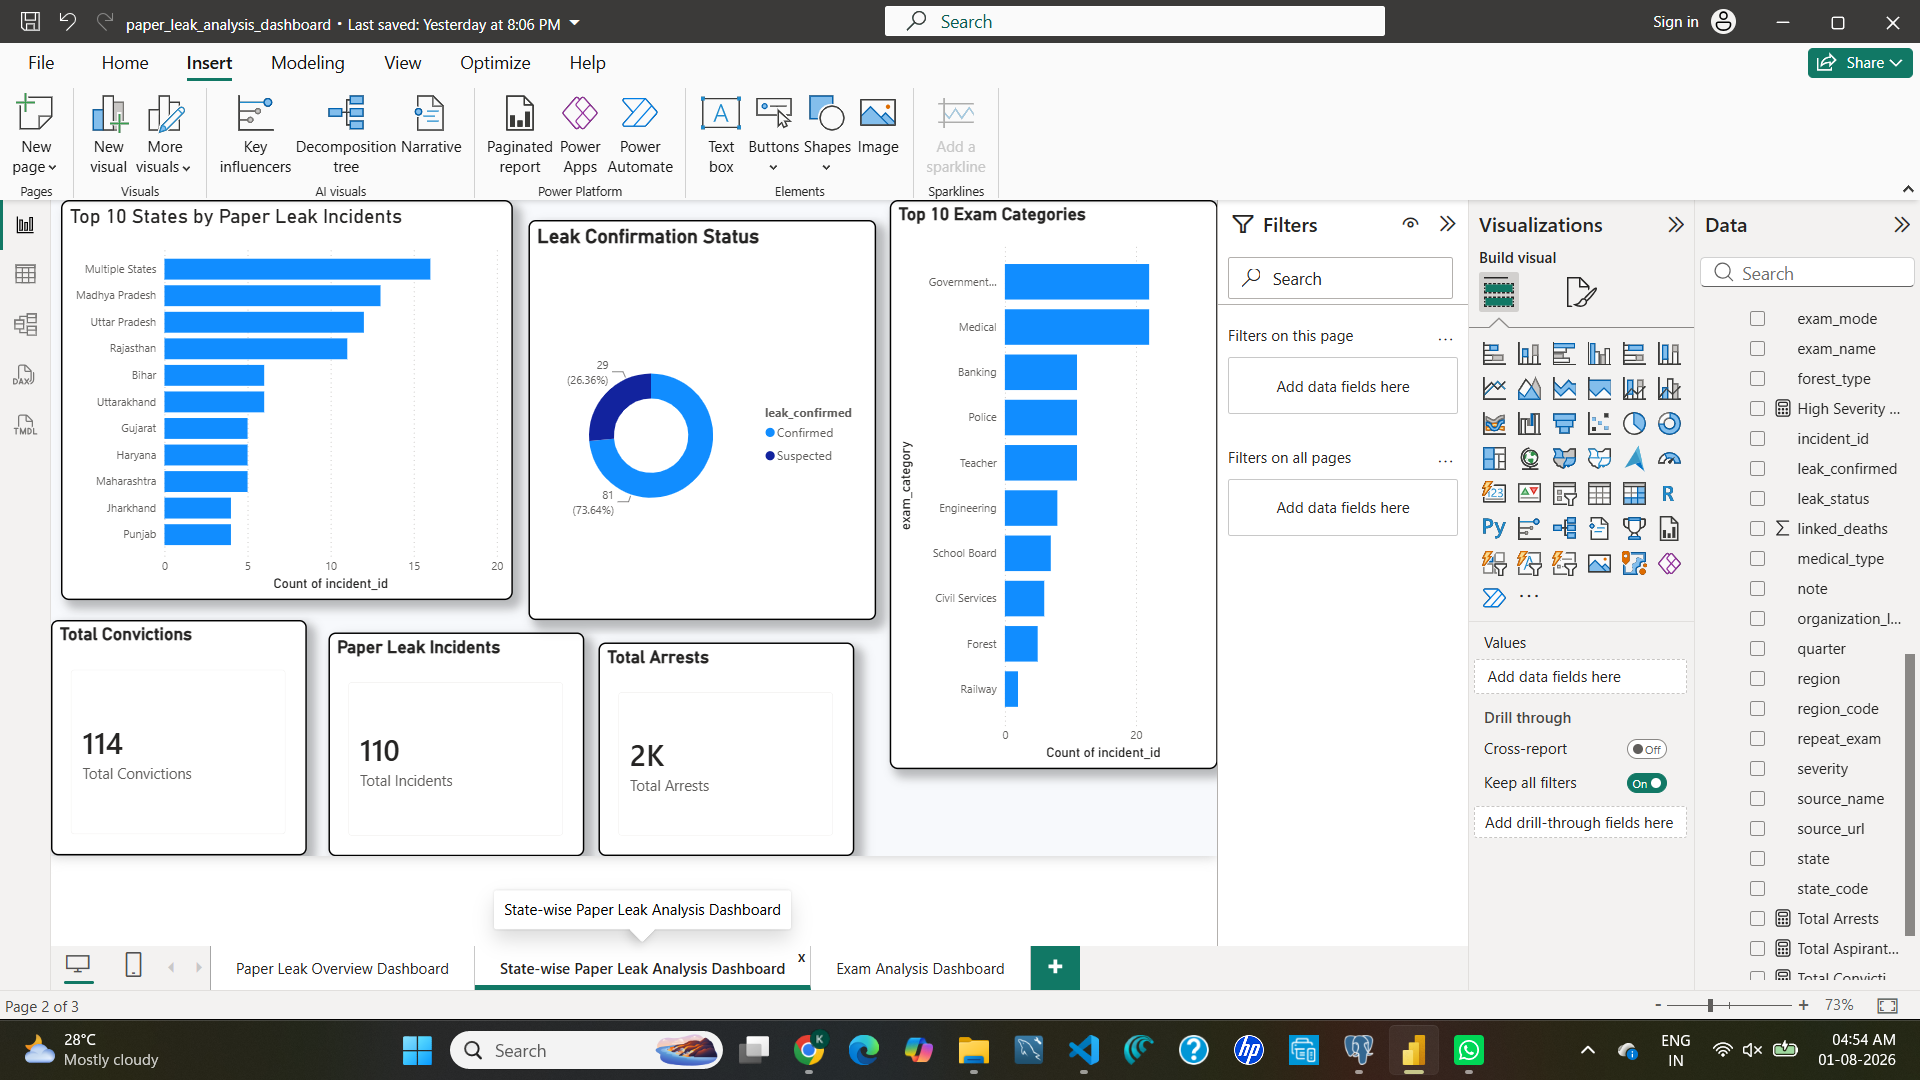

This screenshot's page, from the dashboard's own definition file:
{"tool":"powerbi","page":{"name":"State-wise Paper Leak Analysis Dashboard","canvas":[1280,720],"ordinal":1},"visuals":[{"type":"cardVisual","title":"Paper Leak Incidents","fields":{"Data":["paper_leaks_cleaned.Total Incidents"]},"box":[304.6,474.8,280.6,245.8],"z":0},{"type":"cardVisual","title":"Total Arrests","fields":{"Data":["paper_leaks_cleaned.Total Arrests"]},"box":[601,485.8,280.6,234.7],"z":1000},{"type":"cardVisual","title":"Total Convictions","fields":{"Data":["paper_leaks_cleaned.Total Convictions"]},"box":[0,461.1,280.6,258.3],"z":2000},{"type":"clusteredBarChart","title":"Top 10 States by Paper Leak Incidents","fields":{"Category":["paper_leaks_cleaned.state"],"Y":["CountNonNull(paper_leaks_cleaned.incident_id)"]},"box":[11.1,0,495.8,438.9],"z":3000},{"type":"donutChart","title":"Leak Confirmation Status","fields":{"Category":["paper_leaks_cleaned.leak_confirmed"],"Y":["CountNonNull(paper_leaks_cleaned.incident_id)"]},"box":[524.2,22,381.9,438.9],"z":4000},{"type":"clusteredBarChart","title":"Top 10 Exam Categories","fields":{"Category":["paper_leaks_cleaned.exam_category"],"Y":["CountNonNull(paper_leaks_cleaned.incident_id)"]},"box":[920.8,0,359.7,625],"z":5000}]}

Visuals, with their boxes on the page's 1280x720 design canvas (x1, y1, x2, y2). These are canvas units, not pixel positions in the 1920x1080 screenshot, which may show the page scaled, cropped or inside an application window:
"Paper Leak Incidents" cardVisual: locate(305, 475, 585, 721)
"Total Arrests" cardVisual: locate(601, 486, 882, 720)
"Total Convictions" cardVisual: locate(0, 461, 281, 719)
"Top 10 States by Paper Leak Incidents" clusteredBarChart: locate(11, 0, 507, 439)
"Leak Confirmation Status" donutChart: locate(524, 22, 906, 461)
"Top 10 Exam Categories" clusteredBarChart: locate(921, 0, 1280, 625)
